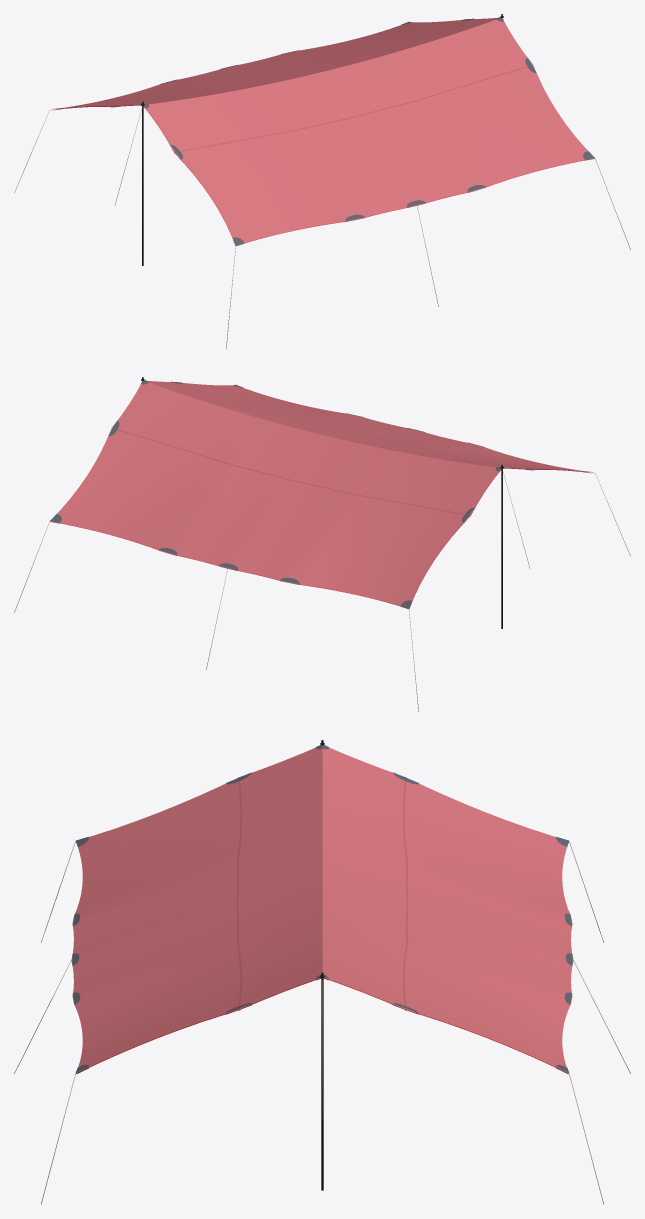
Rendered from hilleberg-tarp-20-ul.glb.
3 renders of one model, top to bottom at view 1: azimuth 30°, elevation 25°; view 2: azimuth 150°, elevation 25°; view 3: azimuth 270°, elevation 25°, orthographic. The views are drawn at different scales.
Bounding box in the file's own units: 5.09 × 1.92 × 4.93.
